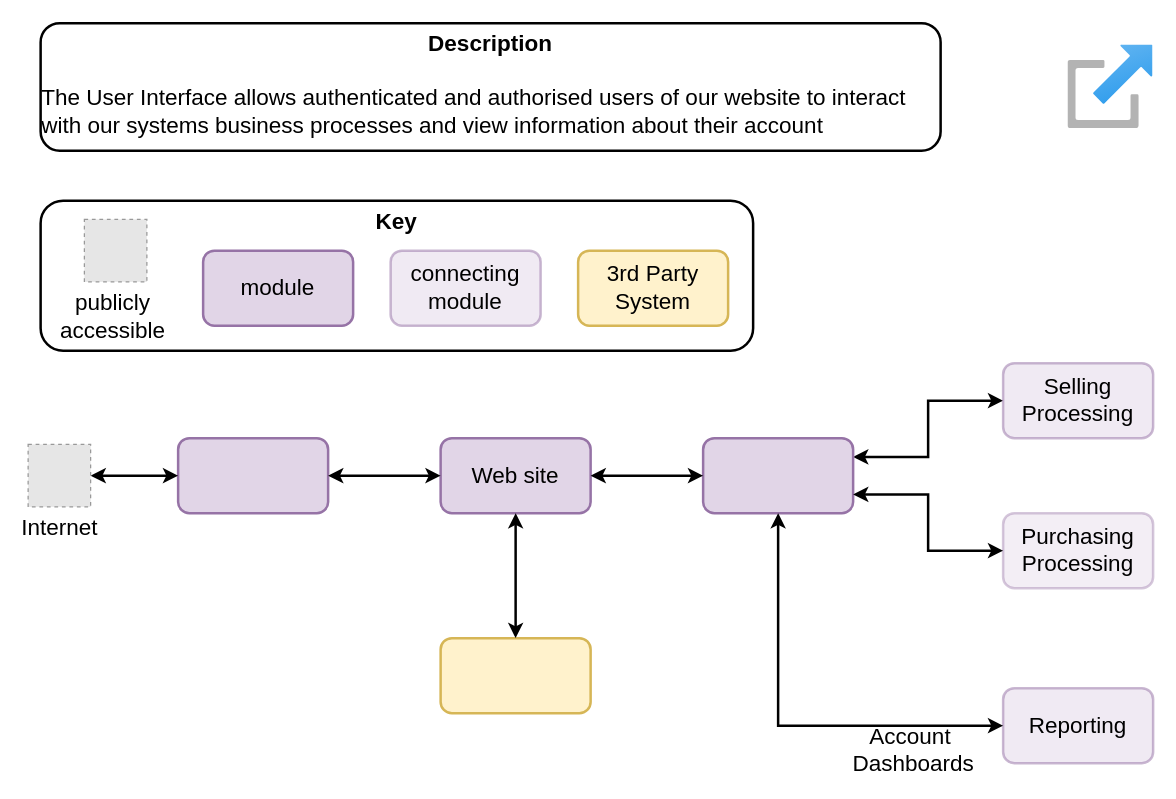
Image size: 1176x799. Some labels were removed from this diagram. Grey dashed boxes stand in for pictures. Each missing label, with the centre of its shape:
Authentication and Authorisation: the point at 777,475
Parent: the point at 1110,86
Payment Providers eg Paypal: the point at 515,675
WEB Hosting Setup eg DNS: the point at 252,475
